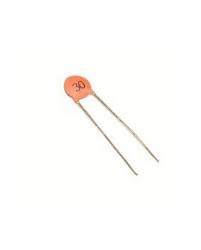ceramic capacitor: (42, 51, 128, 128)
